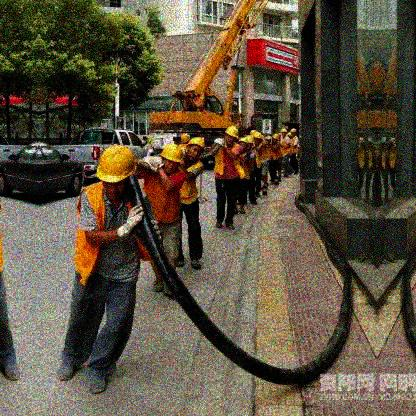helmet: (96, 146, 138, 199), (160, 143, 183, 175), (187, 137, 206, 161), (224, 124, 240, 146), (245, 136, 256, 150), (255, 132, 263, 145), (272, 133, 280, 145), (291, 128, 298, 137), (281, 129, 288, 137), (266, 136, 272, 145)
